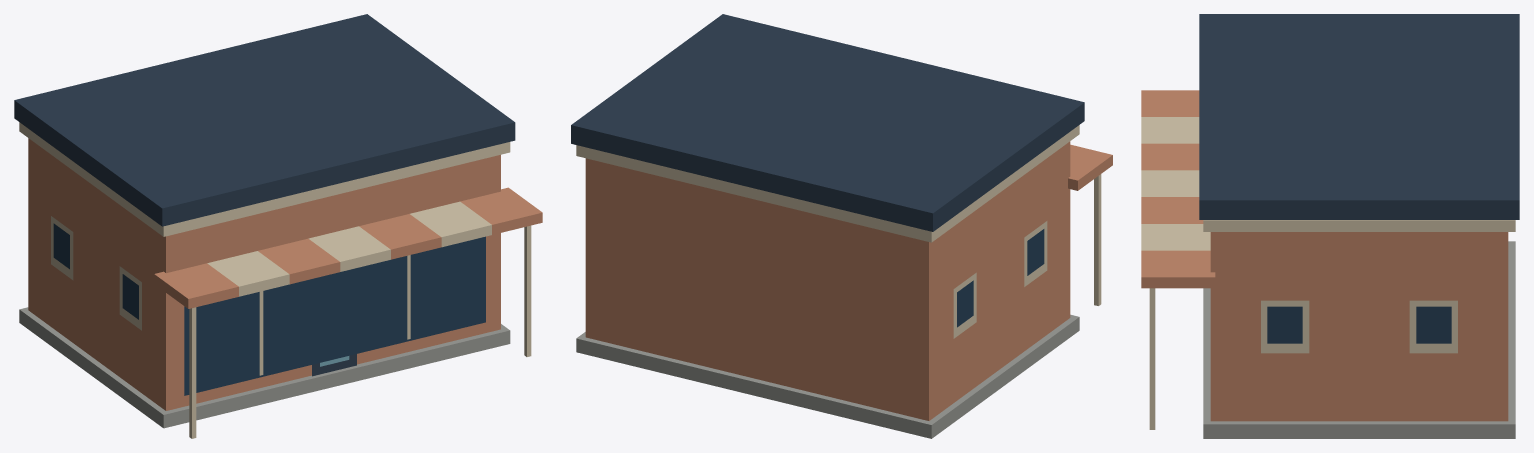
The model's file is market-peach.glb.
3 renders of one model, left to right at view 1: azimuth 30°, elevation 25°; view 2: azimuth 150°, elevation 25°; view 3: azimuth 270°, elevation 25°, orthographic. The views are drawn at different scales.
Parts seen in each view (by area): view 1: asset_root; view 2: asset_root; view 3: asset_root.
Part boxes in pixels (x1,y1,x2,y2): asset_root: (14,14,542,438); asset_root: (571,14,1112,438); asset_root: (1141,14,1519,438).
Size of the model in its own units: 5.5 by 3.3 by 4.7.
